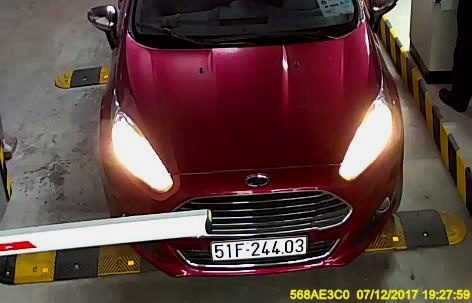plate: (208, 236, 306, 260)
